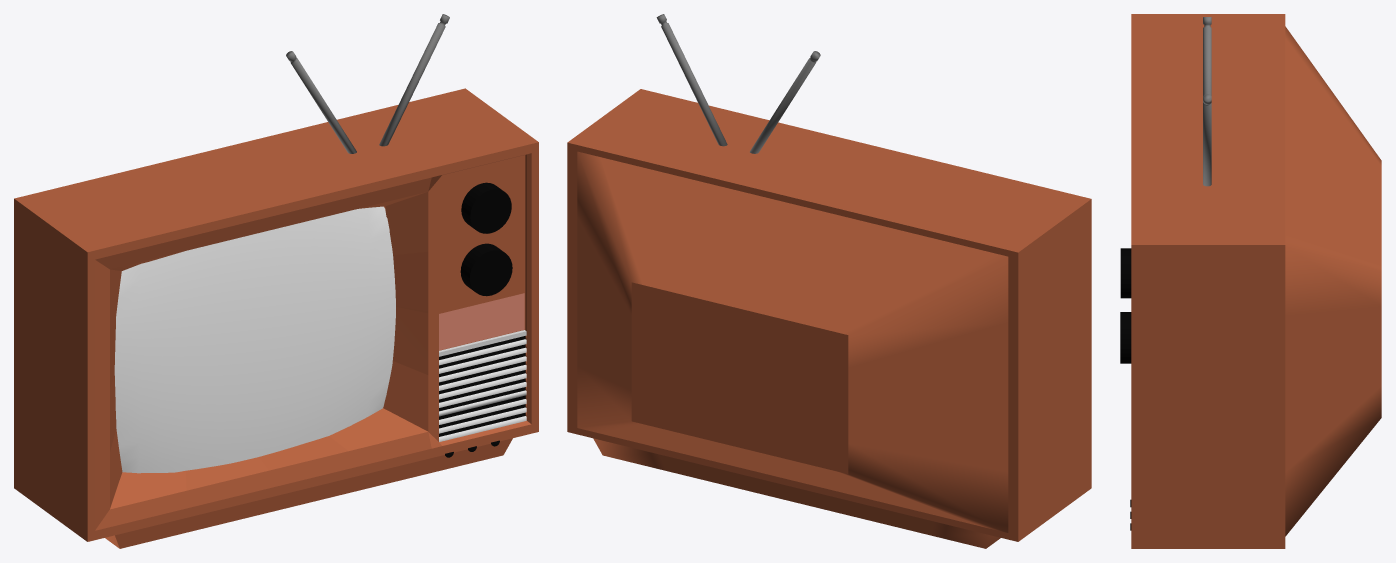
The picture shows the model from 3 angles, left to right: view 1: azimuth 30°, elevation 25°; view 2: azimuth 150°, elevation 25°; view 3: azimuth 270°, elevation 25°; orthographic projection. The views are drawn at different scales.
Parts seen in each view (by area): view 1: Cube.003; view 2: Cube.003; view 3: Cube.003.
Boxes of the visible parts, x1=… form: Cube.003: x1=14, y1=14, x2=538, y2=548; Cube.003: x1=567, y1=14, x2=1091, y2=548; Cube.003: x1=1120, y1=14, x2=1381, y2=548.
Bounding box in the file's own units: 5 × 4.46 × 2.39.
